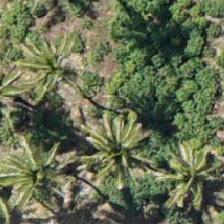coconut_tree: (67, 98, 157, 188)
